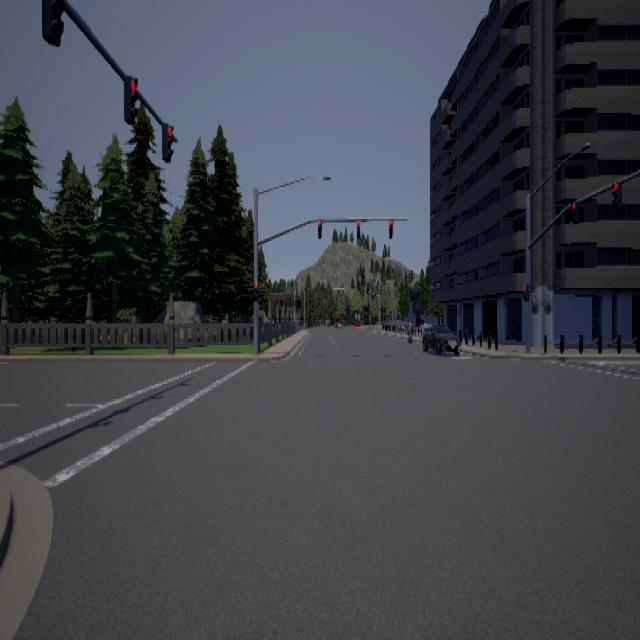red_light: (125, 74, 140, 123), (163, 121, 175, 162), (613, 180, 623, 207), (572, 200, 580, 222), (524, 283, 530, 300), (318, 218, 322, 238), (389, 218, 393, 238), (255, 281, 259, 300), (358, 218, 360, 238)
traffic_light: (43, 0, 65, 45)
vehicle: (423, 323, 462, 354)
